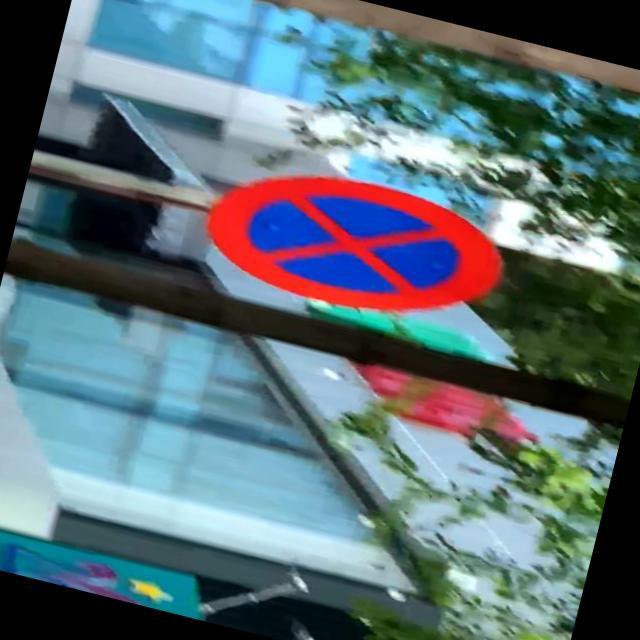P-130: (194, 148, 516, 343)
